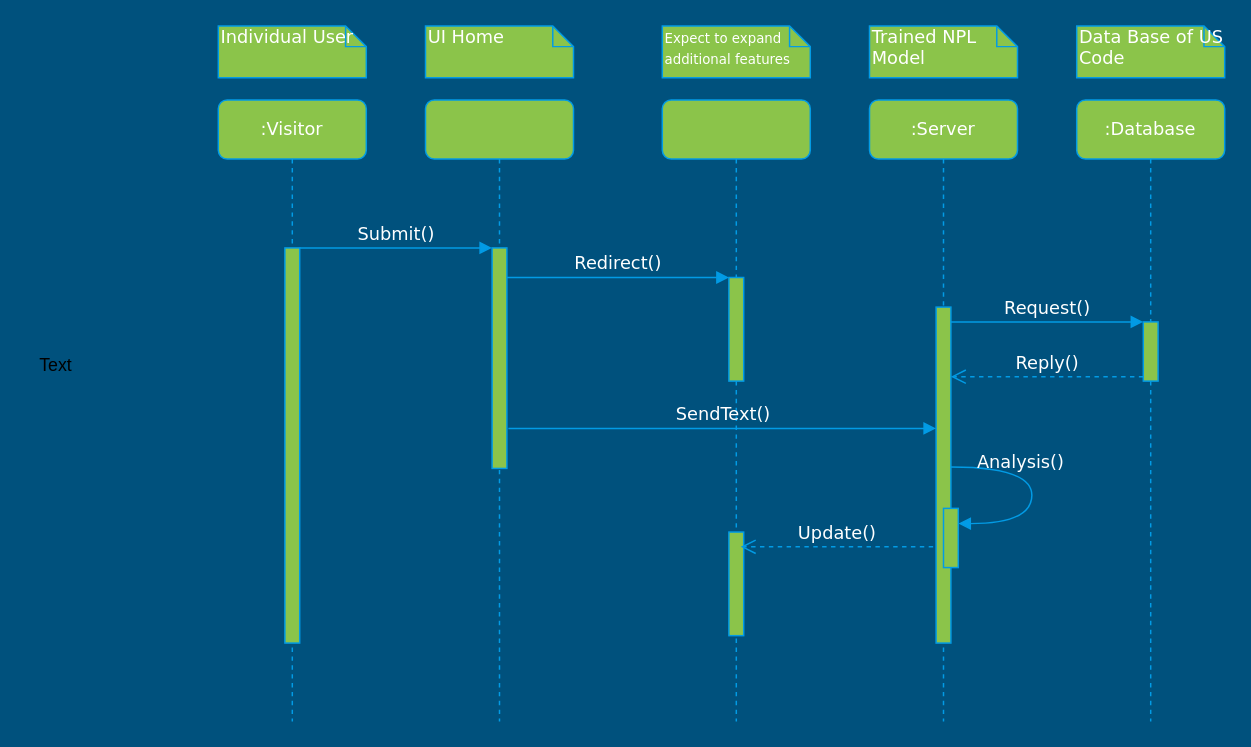
This 1251x747 diagram has some shape labels left out. The shapes that lost their labels are listed below. From the top down, each one's box as (x1, y1, x2, y2) in pixels, then its label:
(424, 98, 574, 722): :Search Page
(661, 98, 810, 722): :Result Page
